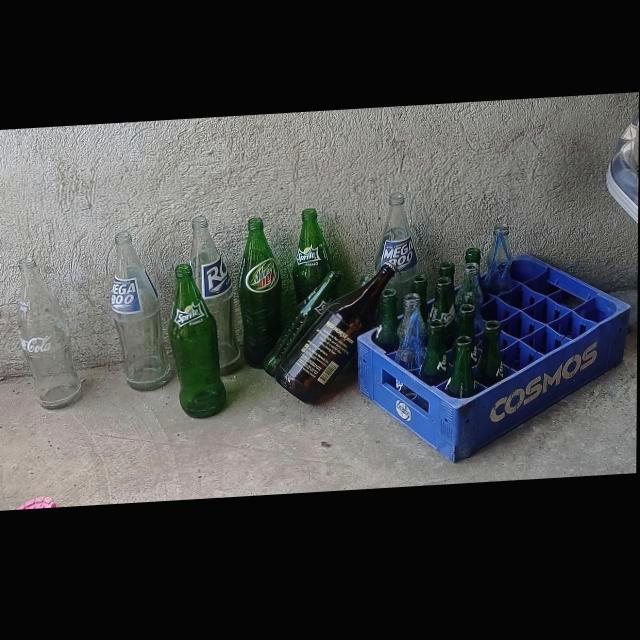glass_bottle: (276, 267, 396, 406), (111, 232, 173, 393), (18, 256, 82, 409), (168, 265, 227, 422), (263, 272, 343, 381), (191, 217, 242, 379), (238, 219, 284, 372), (375, 197, 419, 308), (293, 211, 337, 309), (455, 268, 484, 360), (396, 298, 427, 383), (426, 282, 458, 357), (475, 325, 508, 393), (483, 229, 513, 300), (420, 324, 452, 389), (445, 341, 478, 404), (374, 293, 400, 358), (458, 309, 481, 371), (439, 267, 460, 326), (412, 279, 429, 330)
